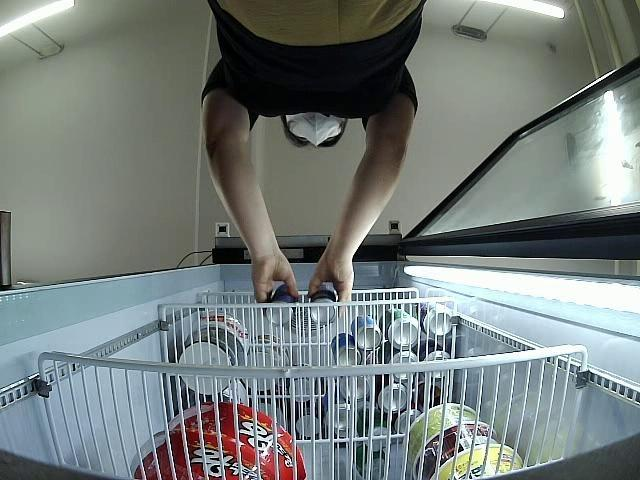16_hot6: (262, 281, 296, 326), (308, 282, 338, 327)
